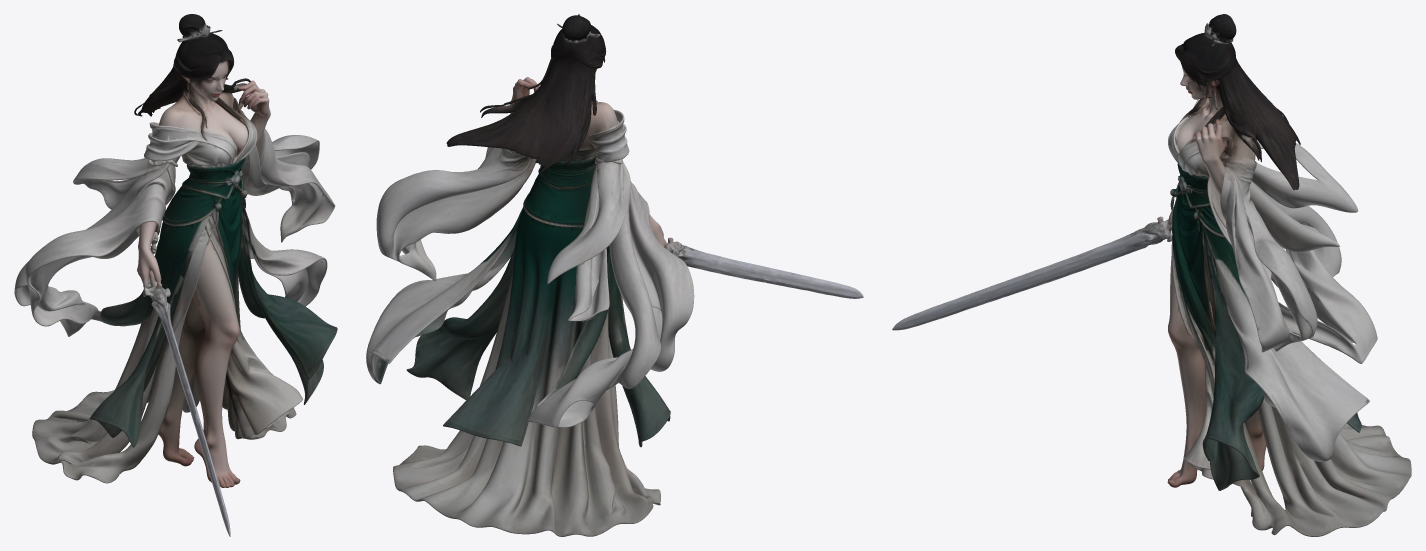
File: zzr_plain.glb
3 renders of one model, left to right at view 1: azimuth 30°, elevation 25°; view 2: azimuth 150°, elevation 25°; view 3: azimuth 270°, elevation 25°, orthographic.
Visible parts, largest first — view 1: zzr; view 2: zzr; view 3: zzr.
Part boxes in pixels (box(x1,y1,x2,y2)): zzr: box(14, 14, 337, 536); zzr: box(366, 14, 863, 536); zzr: box(892, 14, 1411, 536).
Bounding box in the file's own units: 1.19 × 1.7 × 1.73.
1 material, 1 textured.
